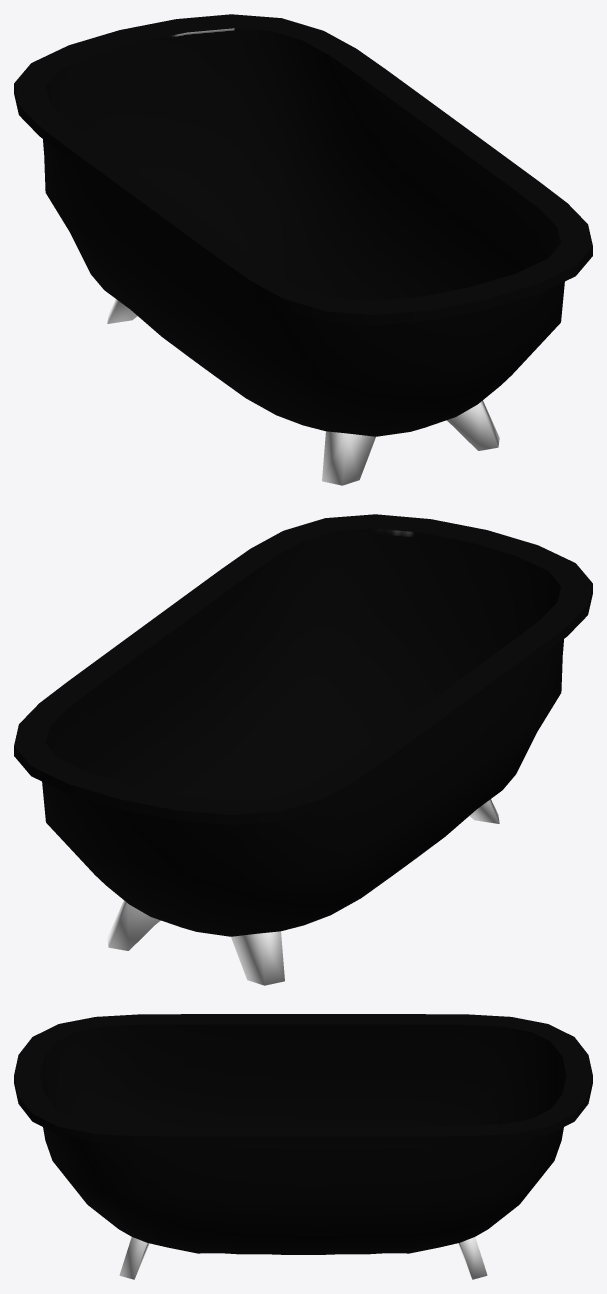
The model's file is STFbathtub_005.glb.
The picture shows the model from 3 angles, top to bottom: view 1: azimuth 30°, elevation 25°; view 2: azimuth 150°, elevation 25°; view 3: azimuth 270°, elevation 25°; orthographic projection. The views are drawn at different scales.
Parts seen in each view (by area): view 1: STFbathtub_005; view 2: STFbathtub_005; view 3: STFbathtub_005.
Boxes of the visible parts, <box> form: STFbathtub_005: <box>14,14,592,485</box>; STFbathtub_005: <box>14,514,592,985</box>; STFbathtub_005: <box>14,1014,592,1279</box>.
Size of the model in its own units: 0.9999 by 0.648 by 2.
1 material, 1 textured.
